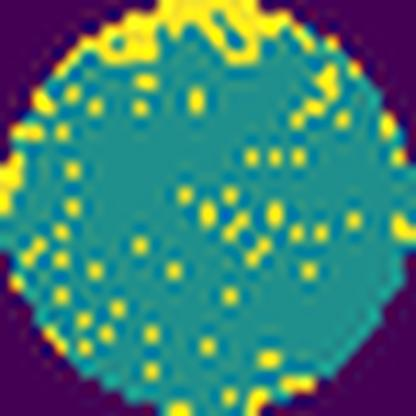Edge-Loc: (54, 0, 299, 79), (0, 148, 26, 226)
